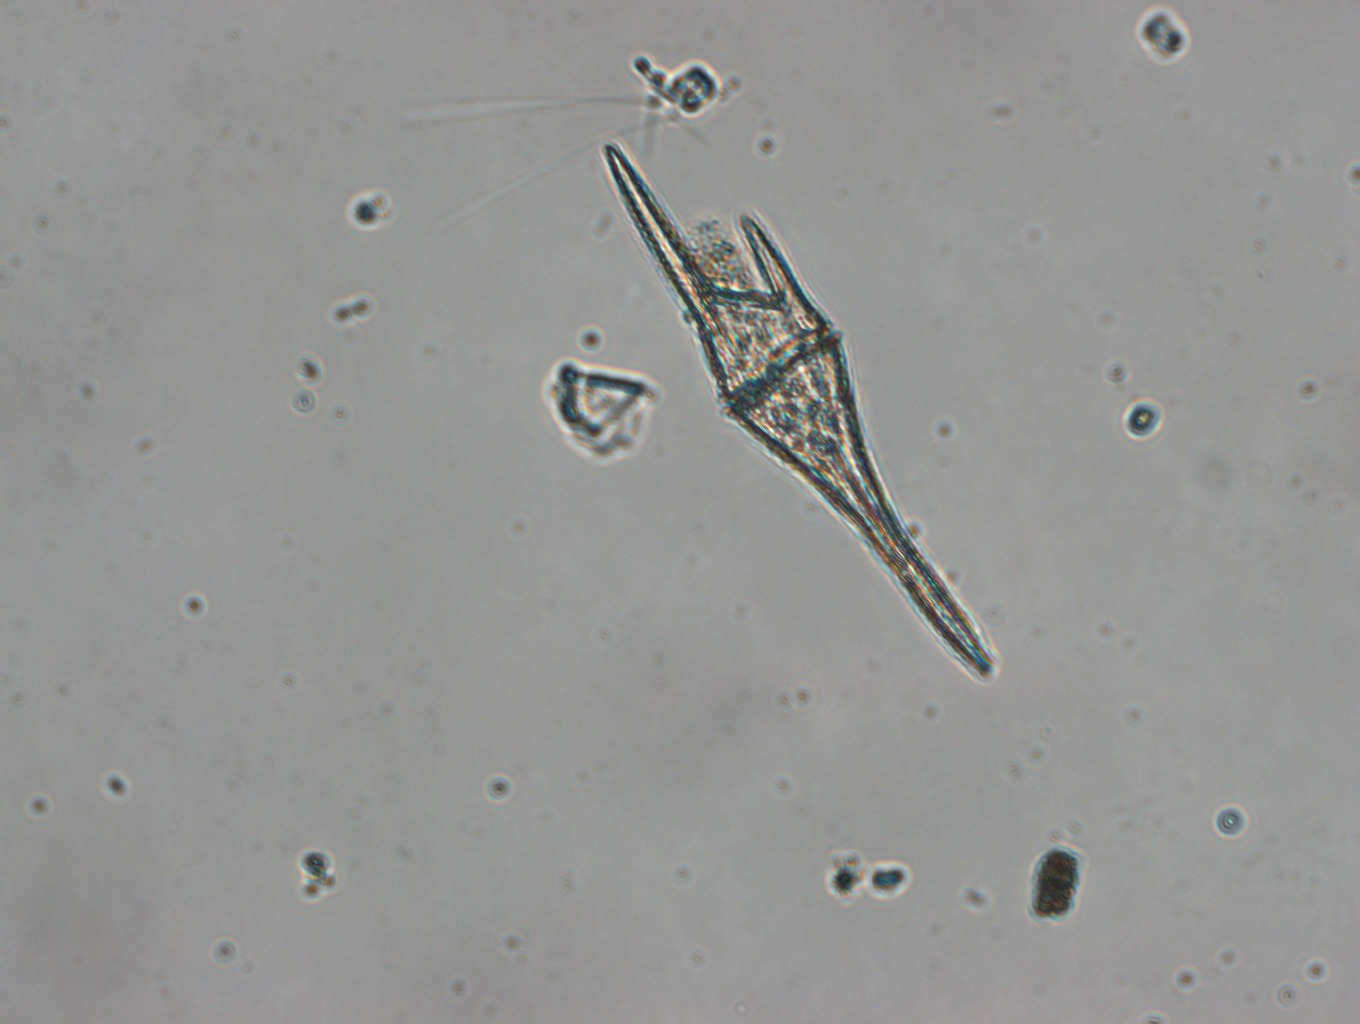ceratium furca: (595, 137, 1000, 689)
